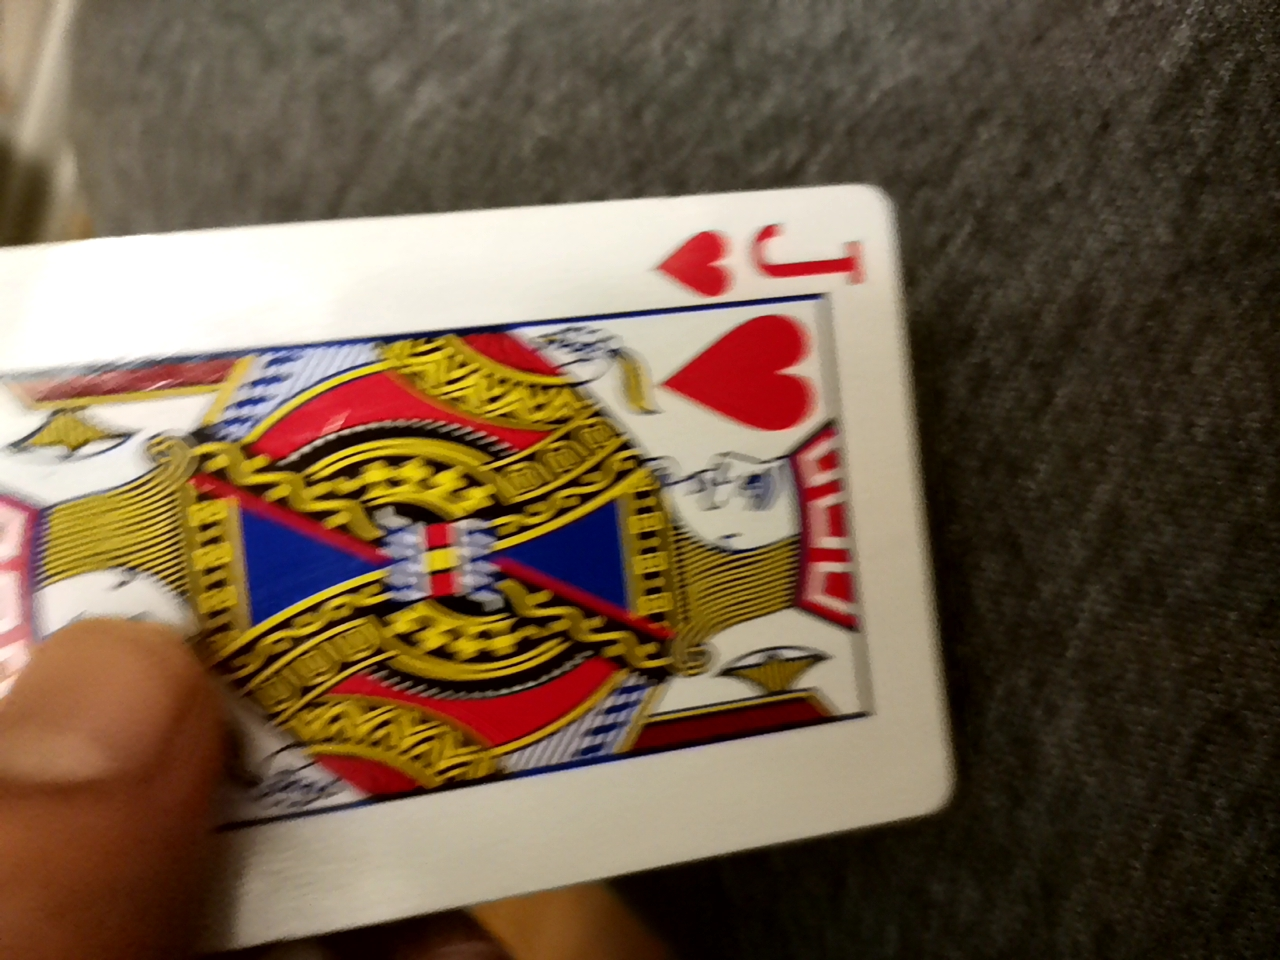hx j: (6, 179, 962, 945)
